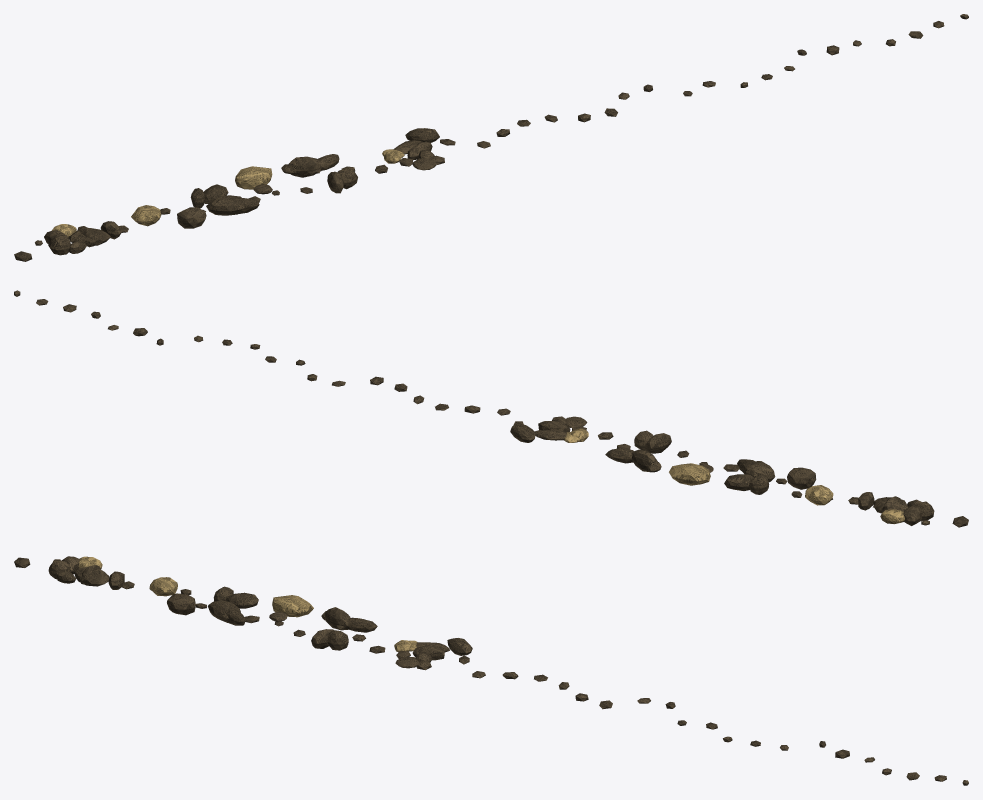
Rendered from north-east-shore.glb.
3 renders of one model, top to bottom at view 1: azimuth 30°, elevation 25°; view 2: azimuth 150°, elevation 25°; view 3: azimuth 330°, elevation 25°, orthographic.
Visible parts, largest first — view 1: north-east-shore; view 2: north-east-shore; view 3: north-east-shore.
Part boxes in pixels (x1=…): north-east-shore: x1=14, y1=14, x2=968, y2=261; north-east-shore: x1=14, y1=290, x2=968, y2=527; north-east-shore: x1=14, y1=556, x2=968, y2=785.
Size of the model in its own units: 57.77 by 1.19 by 4.16.
1 material, 1 textured.
